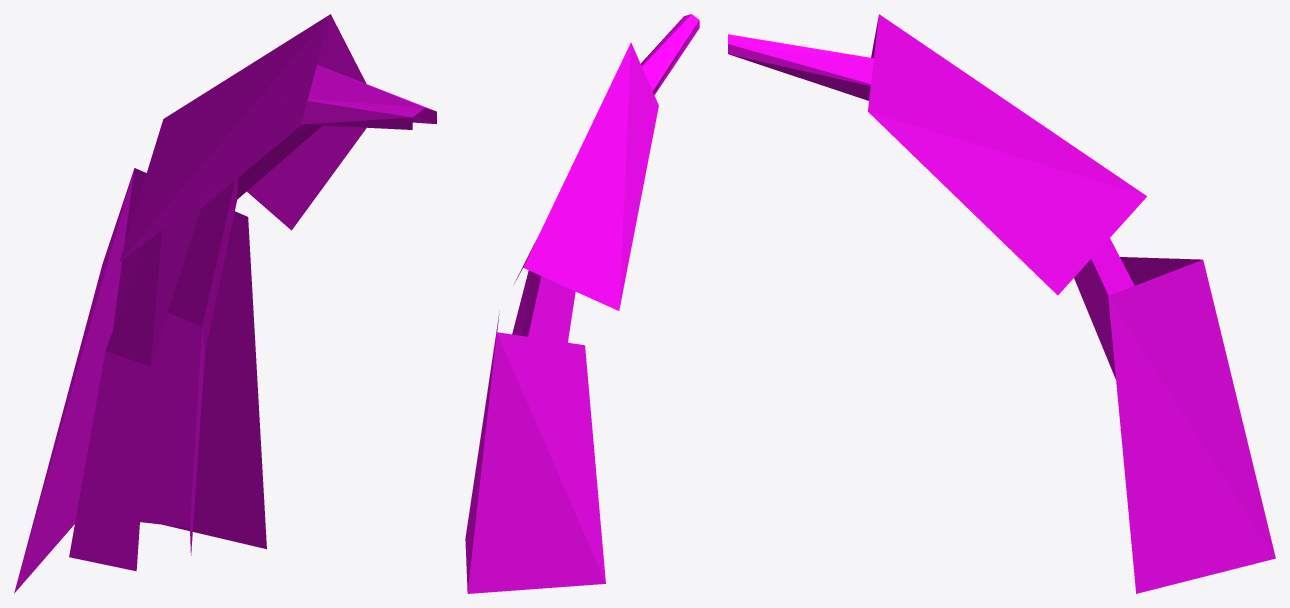
Rendered from shipleak.obj.
The picture shows the model from 3 angles, left to right: view 1: azimuth 30°, elevation 25°; view 2: azimuth 150°, elevation 25°; view 3: azimuth 270°, elevation 25°; orthographic projection. The views are drawn at different scales.
Visible parts, largest first — view 1: shipleak_back; view 2: shipleak_back; view 3: shipleak_back.
Boxes of the visible parts, left/top/right/bottom form: shipleak_back: left=14, top=14, right=436, bottom=593; shipleak_back: left=465, top=14, right=699, bottom=593; shipleak_back: left=728, top=14, right=1275, bottom=593.
Size of the model in its own units: 0.39 by 1.07 by 0.98.
